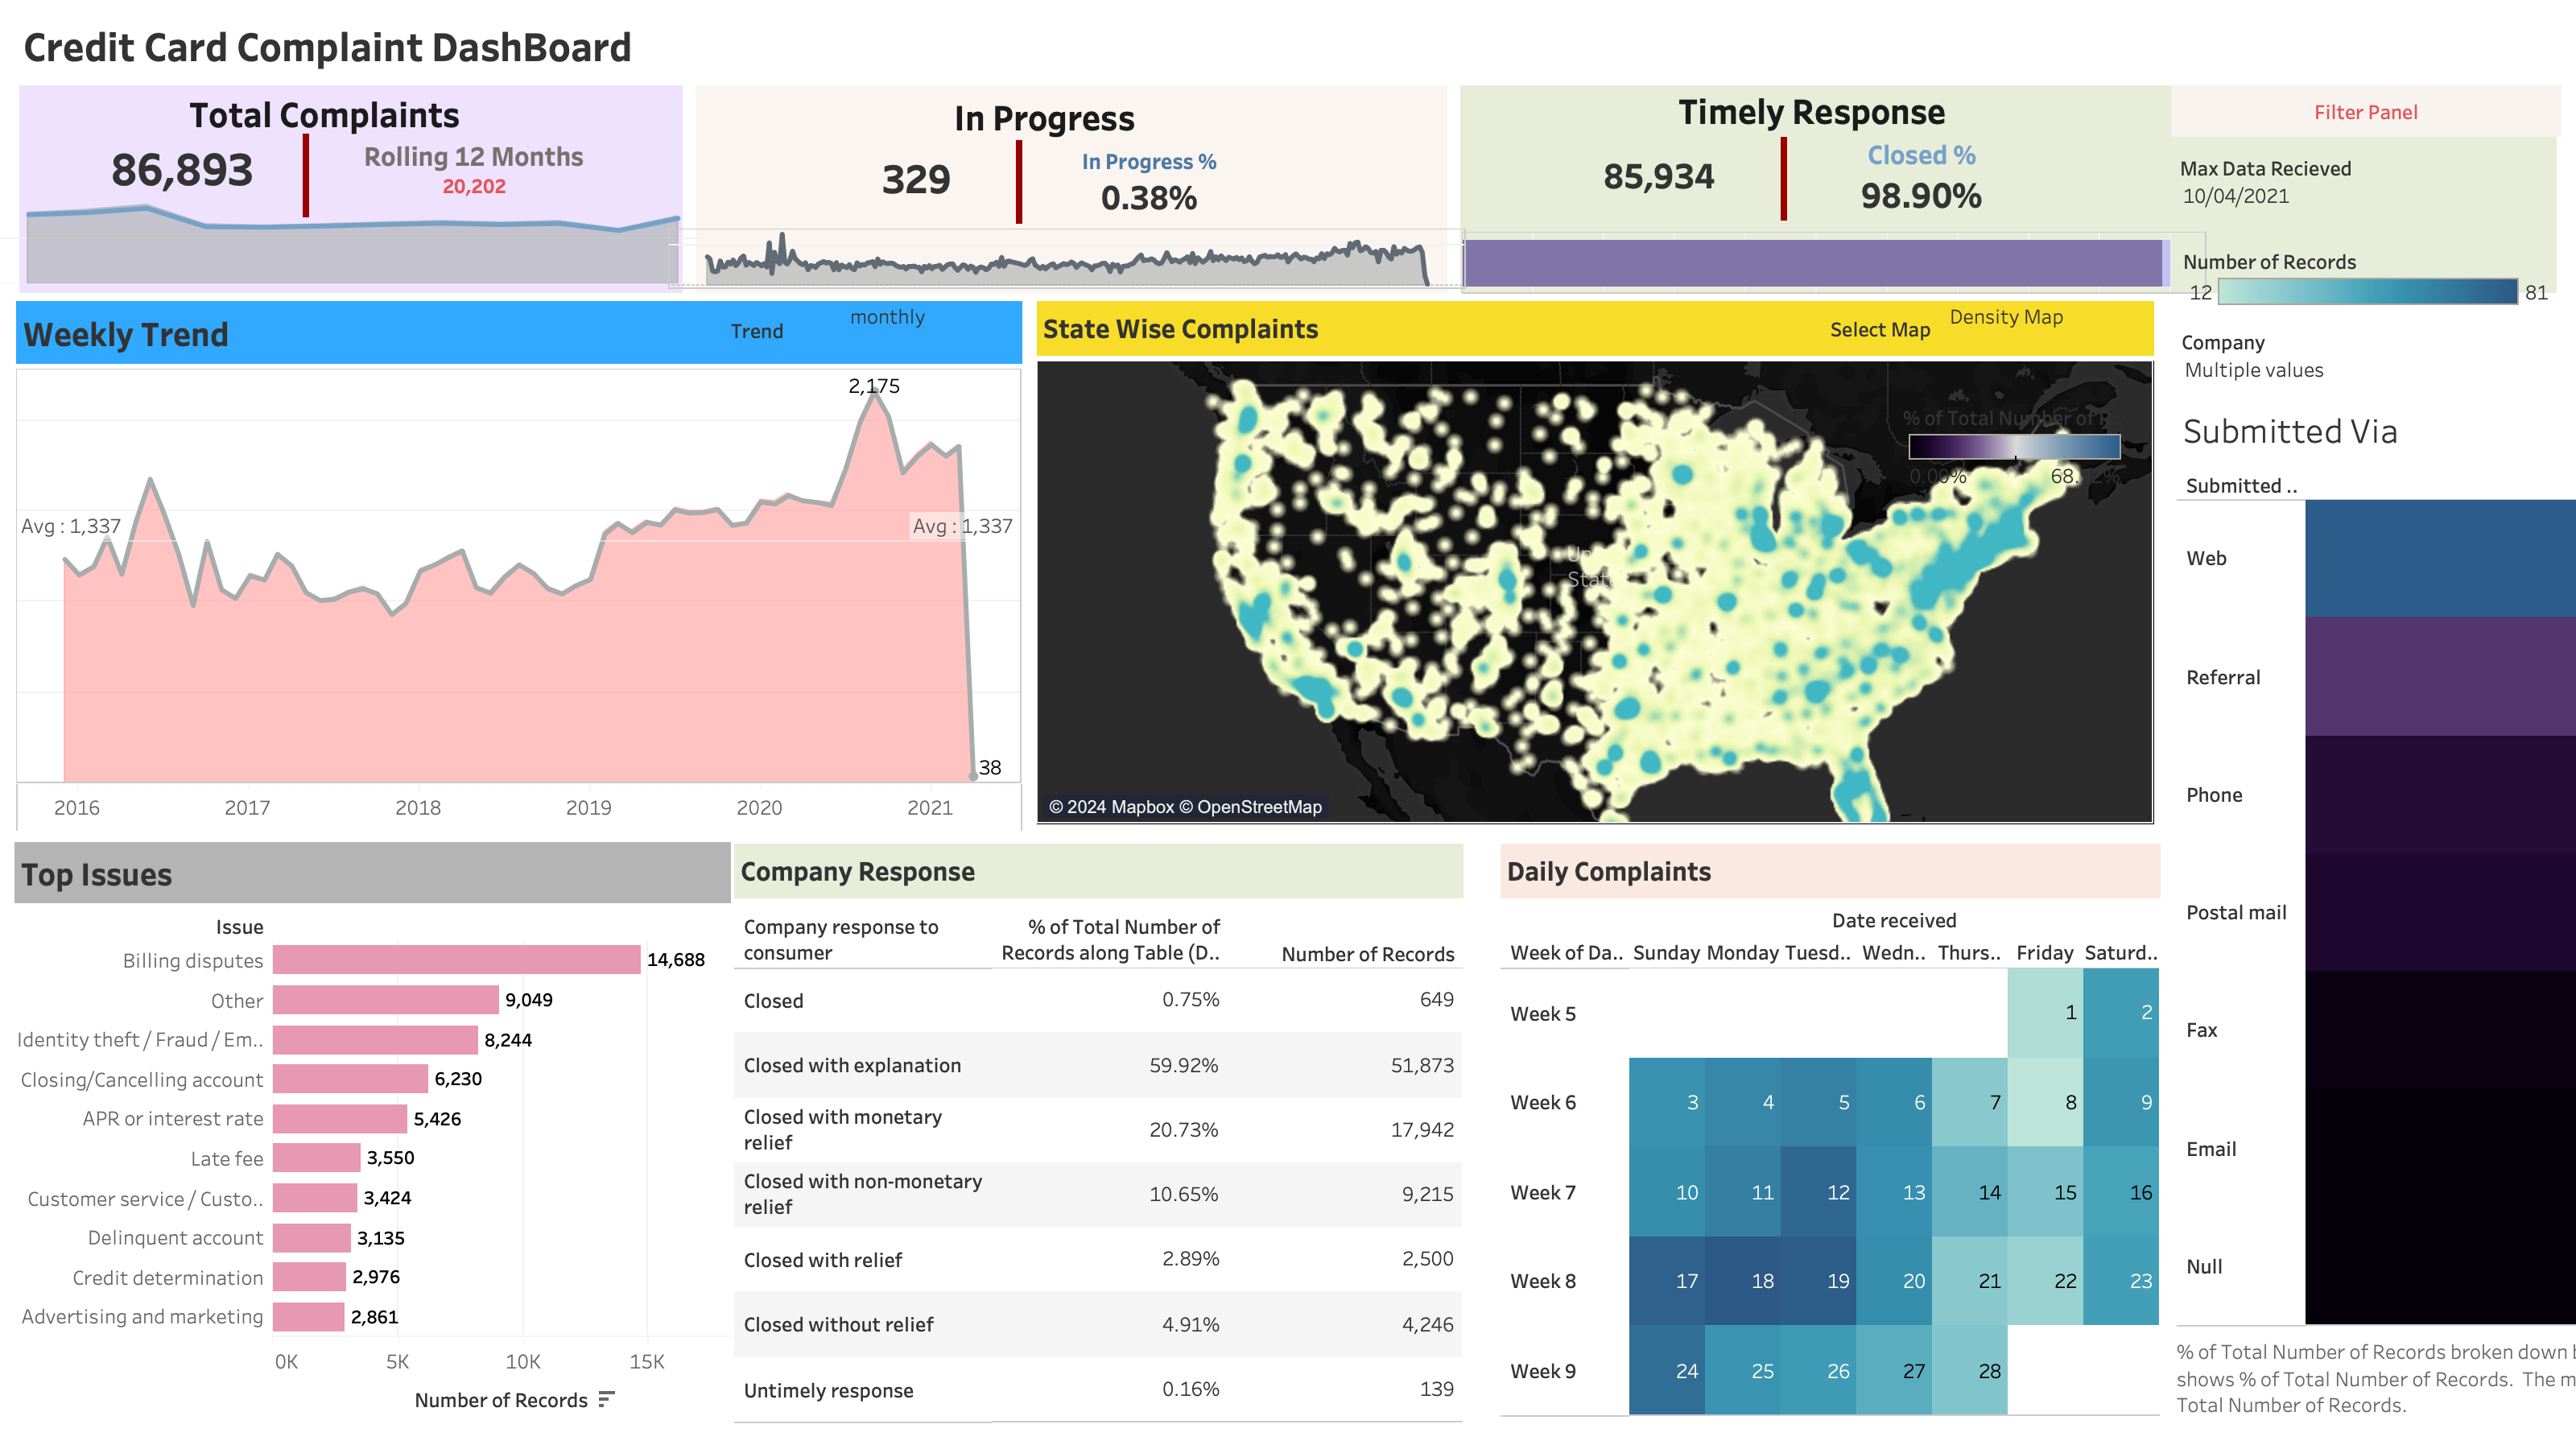

This screenshot's page, from the dashboard's own definition file:
{"tool":"tableau","page":{"name":"Credit Card Complaint DashBoard","canvas":[1600,900],"ordinal":0},"visuals":[{"type":"title","box":[8,8,1584,41]},{"type":"blank","box":[8,49,420,137]},{"type":"blank","box":[428,49,475,137]},{"type":"blank","box":[903,49,689,137]},{"type":"text","box":[1349,53,242,32]},{"type":"text","box":[1039,54,174,30]},{"type":"text","box":[115,56,174,30]},{"type":"text","box":[562,58,174,30]},{"type":"blank","box":[188,83,4,52]},{"type":"blank","box":[1106,85,4,52]},{"type":"worksheet","title":"Rolling 12 months complaints","mark":"Automatic","box":[214,86,162,39]},{"type":"worksheet","title":"Closed %","mark":"Automatic","box":[1125,86,139,50]},{"type":"worksheet","title":"Sheet 1","mark":"Automatic","box":[65,87,98,35]},{"type":"blank","box":[631,87,4,52]},{"type":"worksheet","title":"Timely Response","mark":"Automatic","box":[978,87,106,45]},{"type":"worksheet","title":"In Progress %","mark":"Automatic","box":[634,90,161,47]},{"type":"worksheet","title":"In Progress Complaints","mark":"Automatic","box":[527,92,87,38]},{"type":"parameter","param":"[Parameters].[Parameter 1]","box":[1354,95,241,46]},{"type":"worksheet","title":"Sheet 9","mark":"Line","rows":["Number of Records","Number of Records"],"cols":["Date received"],"box":[415,142,496,38]},{"type":"worksheet","title":"Sheet 6","mark":"Bar","cols":["Calculation_4836443853550473222","Calculation_4836443853548134404"],"box":[908,144,463,39]},{"type":"legend","title":"Daily Complaints","param":"[federated.1easxju1cpaxgg195tbnh0gvdg0a].[sum:Number of Records:qk]","box":[1356,150,232,49]},{"type":"worksheet","title":"Trend","mark":"Automatic","rows":["Number of Records","Number of Records"],"cols":["Calculation_4836443853581762569"],"box":[10,187,625,330]},{"type":"worksheet","title":"Density Map","mark":"Heatmap","box":[644,187,694,325]},{"type":"parameter","param":"[Parameters].[Parameter 2]","box":[454,188,155,35]},{"type":"parameter","param":"[Parameters].[Parameter 3]","box":[1137,188,177,32]},{"type":"filter","title":"Company Response","param":"[federated.1easxju1cpaxgg195tbnh0gvdg0a].[none:Company response to consumer:nk]","box":[1355,203,226,54]},{"type":"worksheet","title":"Filled Map","mark":"Multipolygon","box":[645,224,692,242]},{"type":"legend","title":"Submitted Via","param":"[federated.1easxju1cpaxgg195tbnh0gvdg0a].[pcto:sum:Number of Records:qk]","box":[1182,247,140,76]},{"type":"worksheet","title":"Top Issues","mark":"Automatic","rows":["Issue"],"cols":["Number of Records"],"box":[9,523,445,362]},{"type":"worksheet","title":"Company Response","mark":"Automatic","rows":["Company response to consumer"],"box":[456,524,453,360]},{"type":"worksheet","title":"Daily Complaints","mark":"Square","rows":["Date received"],"cols":["Date received"],"box":[932,524,410,356]}]}

Visuals, with their boxes in screenshot pixels (x1, y1, x2, y2), scaled from the page's 1600x900 canvas onto the 2576x1449 screenshot:
title: [x1=13, y1=13, x2=2563, y2=79]
blank: [x1=13, y1=79, x2=689, y2=299]
blank: [x1=689, y1=79, x2=1454, y2=299]
blank: [x1=1454, y1=79, x2=2563, y2=299]
text: [x1=2172, y1=85, x2=2562, y2=137]
text: [x1=1673, y1=87, x2=1953, y2=135]
text: [x1=185, y1=90, x2=465, y2=138]
text: [x1=905, y1=93, x2=1185, y2=142]
blank: [x1=303, y1=134, x2=309, y2=217]
blank: [x1=1781, y1=137, x2=1787, y2=221]
"Rolling 12 months complaints" worksheet: [x1=345, y1=138, x2=605, y2=201]
"Closed %" worksheet: [x1=1811, y1=138, x2=2035, y2=219]
"Sheet 1" worksheet: [x1=105, y1=140, x2=262, y2=196]
blank: [x1=1016, y1=140, x2=1022, y2=224]
"Timely Response" worksheet: [x1=1575, y1=140, x2=1745, y2=213]
"In Progress %" worksheet: [x1=1021, y1=145, x2=1280, y2=221]
"In Progress Complaints" worksheet: [x1=848, y1=148, x2=989, y2=209]
parameter: [x1=2180, y1=153, x2=2568, y2=227]
"Sheet 9" worksheet (Line marks): [x1=668, y1=229, x2=1467, y2=290]
"Sheet 6" worksheet (Bar marks): [x1=1462, y1=232, x2=2207, y2=295]
"Daily Complaints" legend: [x1=2183, y1=242, x2=2557, y2=320]
"Trend" worksheet: [x1=16, y1=301, x2=1022, y2=832]
"Density Map" worksheet (Heatmap marks): [x1=1037, y1=301, x2=2154, y2=824]
parameter: [x1=731, y1=303, x2=980, y2=359]
parameter: [x1=1831, y1=303, x2=2116, y2=354]
"Company Response" filter: [x1=2182, y1=327, x2=2545, y2=414]
"Filled Map" worksheet (Multipolygon marks): [x1=1038, y1=361, x2=2153, y2=750]
"Submitted Via" legend: [x1=1903, y1=398, x2=2128, y2=520]
"Top Issues" worksheet: [x1=14, y1=842, x2=731, y2=1425]
"Company Response" worksheet: [x1=734, y1=844, x2=1463, y2=1423]
"Daily Complaints" worksheet (Square marks): [x1=1501, y1=844, x2=2161, y2=1417]
